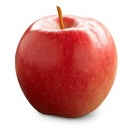apple: (15, 12, 118, 117)
